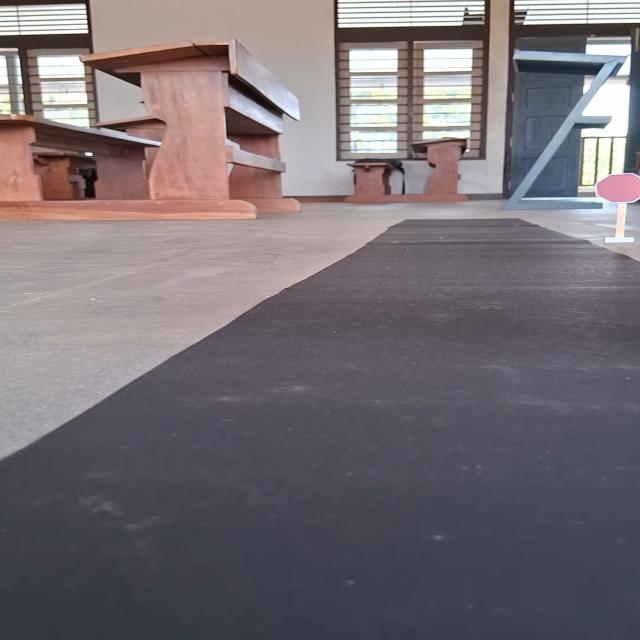Stop: (593, 173, 640, 204)
